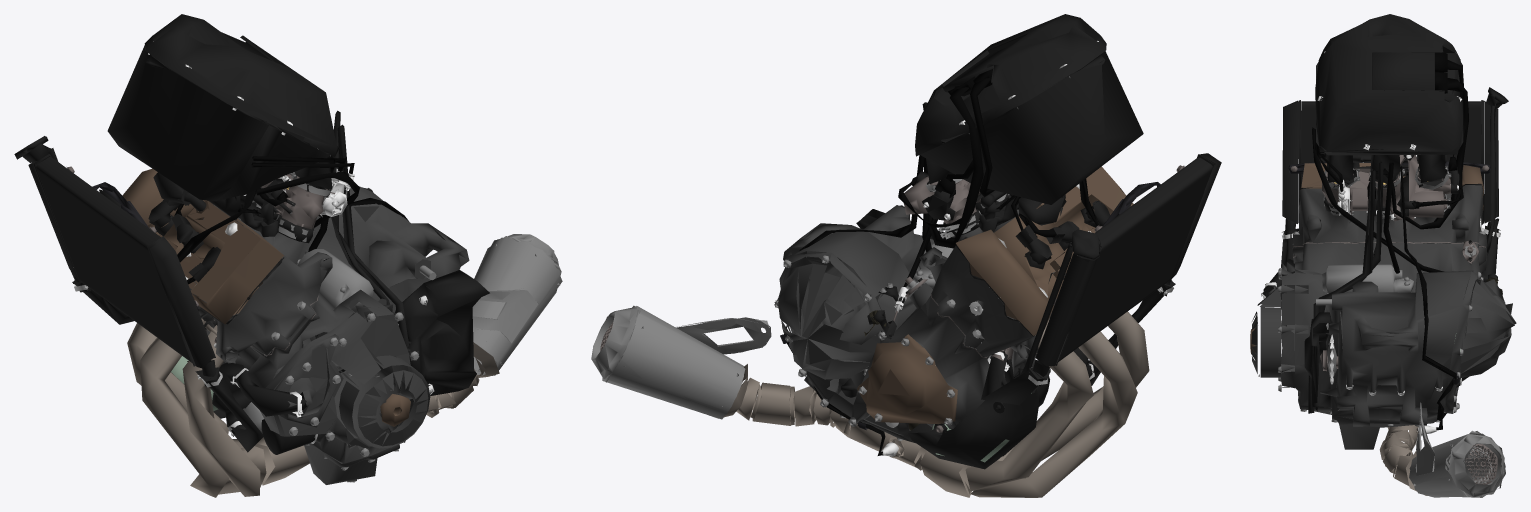
File: eng-m-triple-765.glb
The picture shows the model from 3 angles, left to right: view 1: azimuth 30°, elevation 25°; view 2: azimuth 150°, elevation 25°; view 3: azimuth 270°, elevation 25°; orthographic projection. The views are drawn at different scales.
Visible parts, largest first — view 1: p0; view 2: p0; view 3: p0.
Part boxes in pixels (x1,y1,x2,y2): p0: [14, 14, 562, 497]; p0: [591, 14, 1221, 497]; p0: [1250, 14, 1516, 497].
Bounding box in the file's own units: 0.9045 × 0.7962 × 0.4974.
